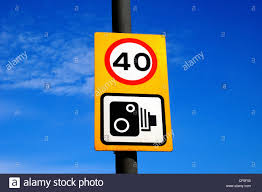Speed_limit_40km: (103, 38, 158, 86)
